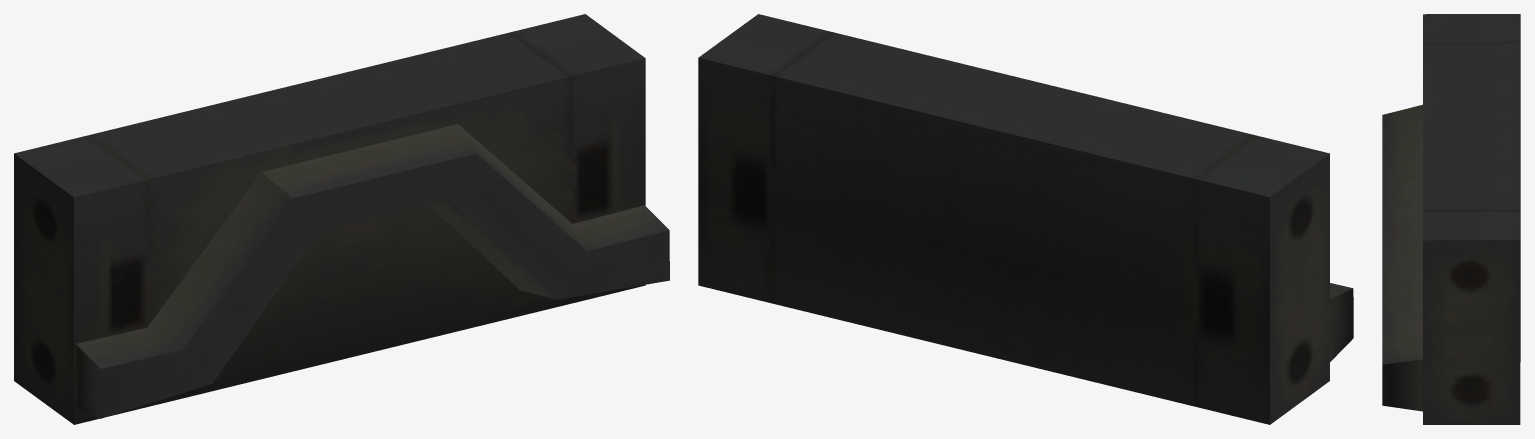
The picture shows the model from 3 angles, left to right: view 1: azimuth 30°, elevation 25°; view 2: azimuth 150°, elevation 25°; view 3: azimuth 270°, elevation 25°; orthographic projection. The views are drawn at different scales.
Visible parts, largest first — view 1: set_0_group_0; view 2: set_0_group_0; view 3: set_0_group_0.
Part boxes in pixels (x1,y1,x2,y2): set_0_group_0: [14, 14, 669, 424]; set_0_group_0: [698, 14, 1353, 424]; set_0_group_0: [1382, 14, 1520, 424].
Size of the model in its own units: 0.3535 by 0.1346 by 0.0912.
1 material, 1 textured.
